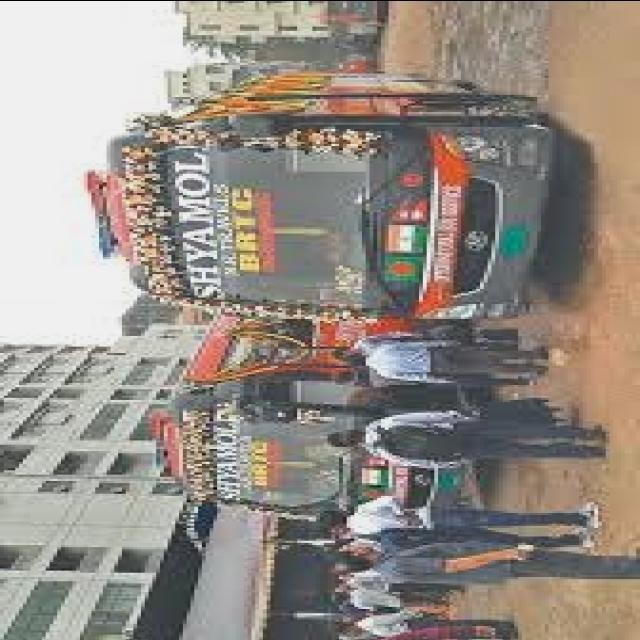bus: (110, 68, 566, 338), (169, 304, 477, 517)
